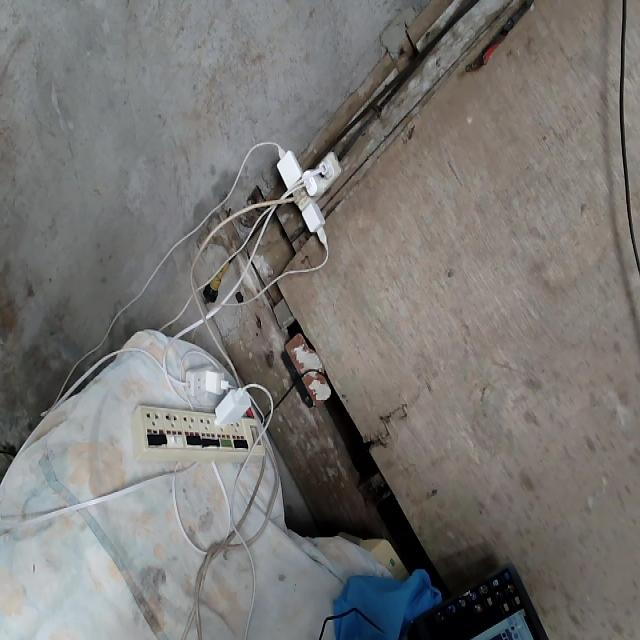-: (269, 144, 341, 243)
